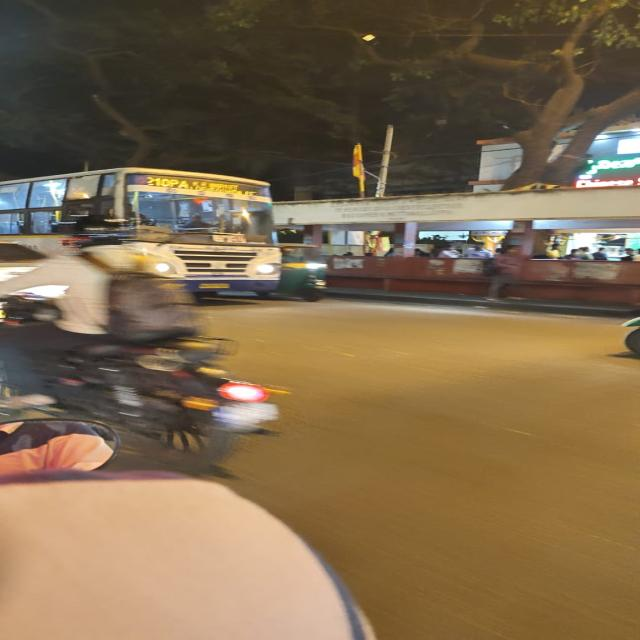bus: (0, 156, 318, 308)
display: (146, 175, 260, 198)
dnumber: (148, 176, 190, 190)
